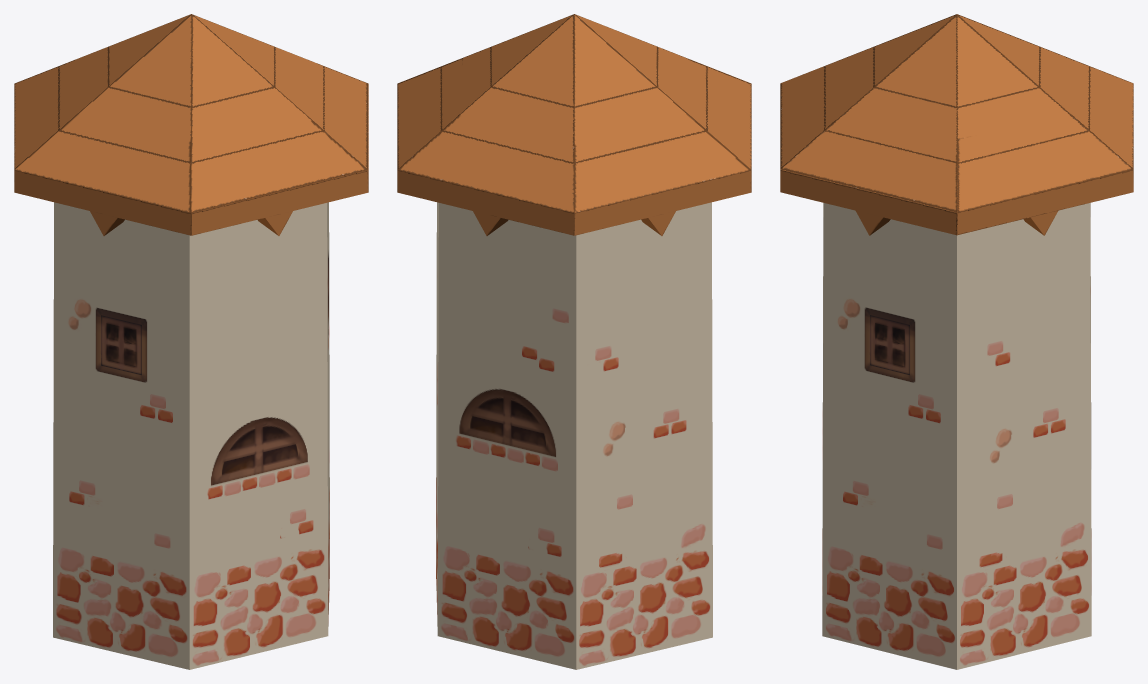
The model's file is wind mill_1.FBX.
3 views of the same model, side by side, from view 1: azimuth 30°, elevation 25°; view 2: azimuth 150°, elevation 25°; view 3: azimuth 270°, elevation 25° (orthographic).
Parts seen in each view (by area): view 1: Box020; view 2: Box020; view 3: Box020.
Part boxes in pixels (<box>): Box020: <box>14,14,368,669</box>; Box020: <box>397,14,751,669</box>; Box020: <box>780,14,1133,669</box>.
Bounding box in the file's own units: 74.61 × 119 × 64.61.
Materials: 3 (3 with a texture image).
